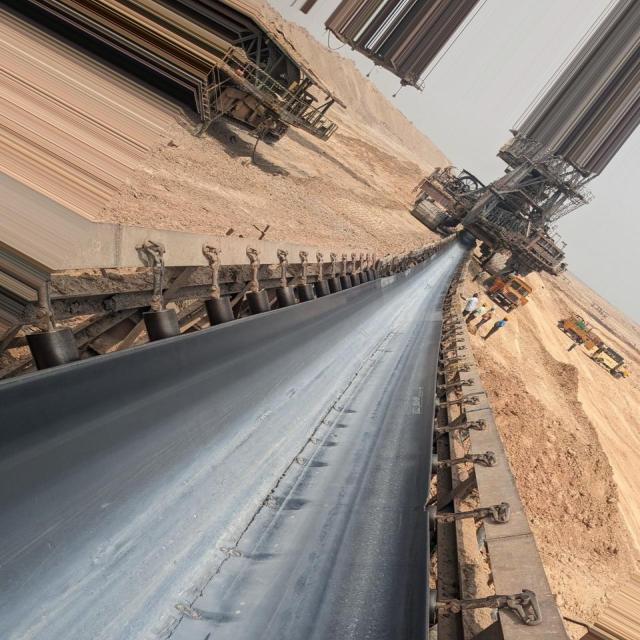Human: (460, 292, 510, 340)
Roller: (27, 266, 389, 371)
patch work: (147, 328, 406, 640)
